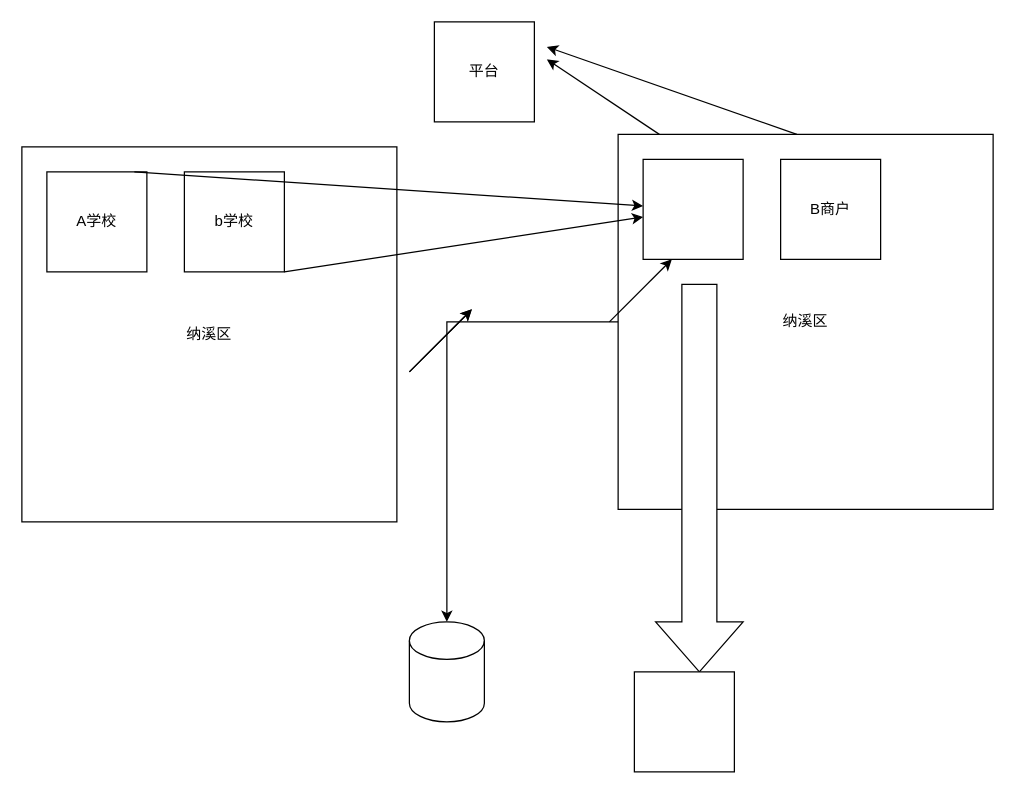
This 1015x794 diagram has some shape labels left out. Here are the shapes that lost their labels. From the top down, the centre of each, then its label:
At point (692, 208): "A商户".
At point (446, 671): "外卖".
At point (683, 721): "1. 营业执照 2. 许可证 3. 资料 4.服务".
